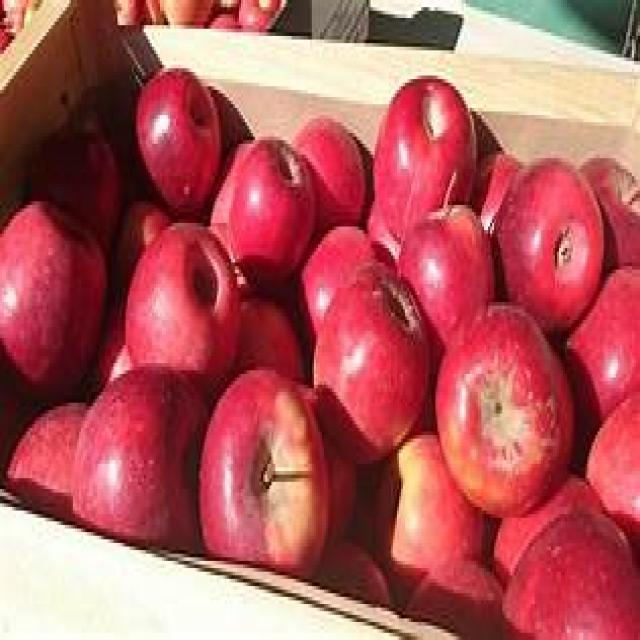apple: (200, 369, 331, 584), (316, 264, 431, 452), (1, 203, 109, 394), (497, 157, 607, 326), (123, 223, 241, 365), (373, 78, 478, 210), (132, 65, 222, 210)
